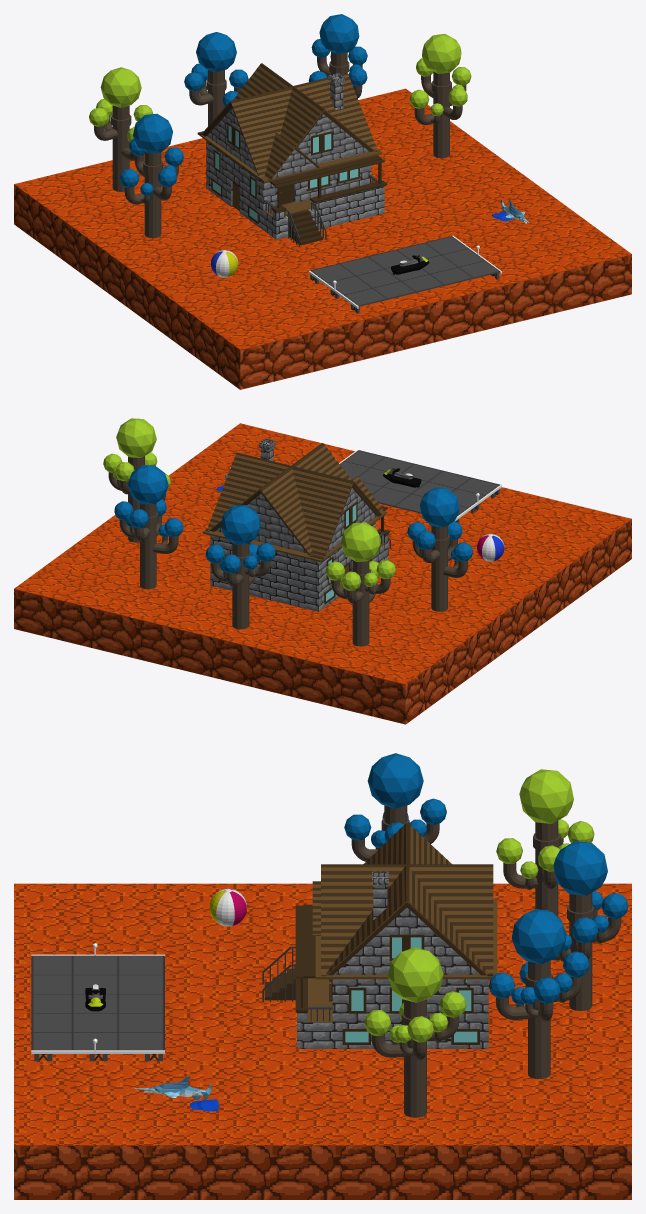
The picture shows the model from 3 angles, top to bottom: view 1: azimuth 30°, elevation 25°; view 2: azimuth 150°, elevation 25°; view 3: azimuth 270°, elevation 25°; orthographic projection. The views are drawn at different scales.
Visible parts, largest first — view 1: Cube.001, Cube.586, OBJRANDOM_BEACHBALL; view 2: Cube.001, Cube.586, OBJRANDOM_BEACHBALL, VEHICLES_WATERBIKE; view 3: Cube.001, Cube.586, OBJRANDOM_BEACHBALL, ANIMAL_PEZ_ESPADA.
Part boxes in pixels (x1,y1,x2,y2): Cube.001: (14, 14, 631, 389); Cube.586: (197, 63, 387, 246); OBJRANDOM_BEACHBALL: (211, 250, 238, 277); Cube.001: (14, 418, 631, 724); Cube.586: (202, 438, 390, 611); OBJRANDOM_BEACHBALL: (477, 534, 504, 561); VEHICLES_WATERBIKE: (383, 468, 421, 487); Cube.001: (14, 753, 631, 1199); Cube.586: (262, 823, 497, 1048); OBJRANDOM_BEACHBALL: (209, 888, 246, 926); ANIMAL_PEZ_ESPADA: (134, 1076, 219, 1111).
Size of the model in its own units: 4000 by 1664 by 4000.
33 materials, 5 textured.
